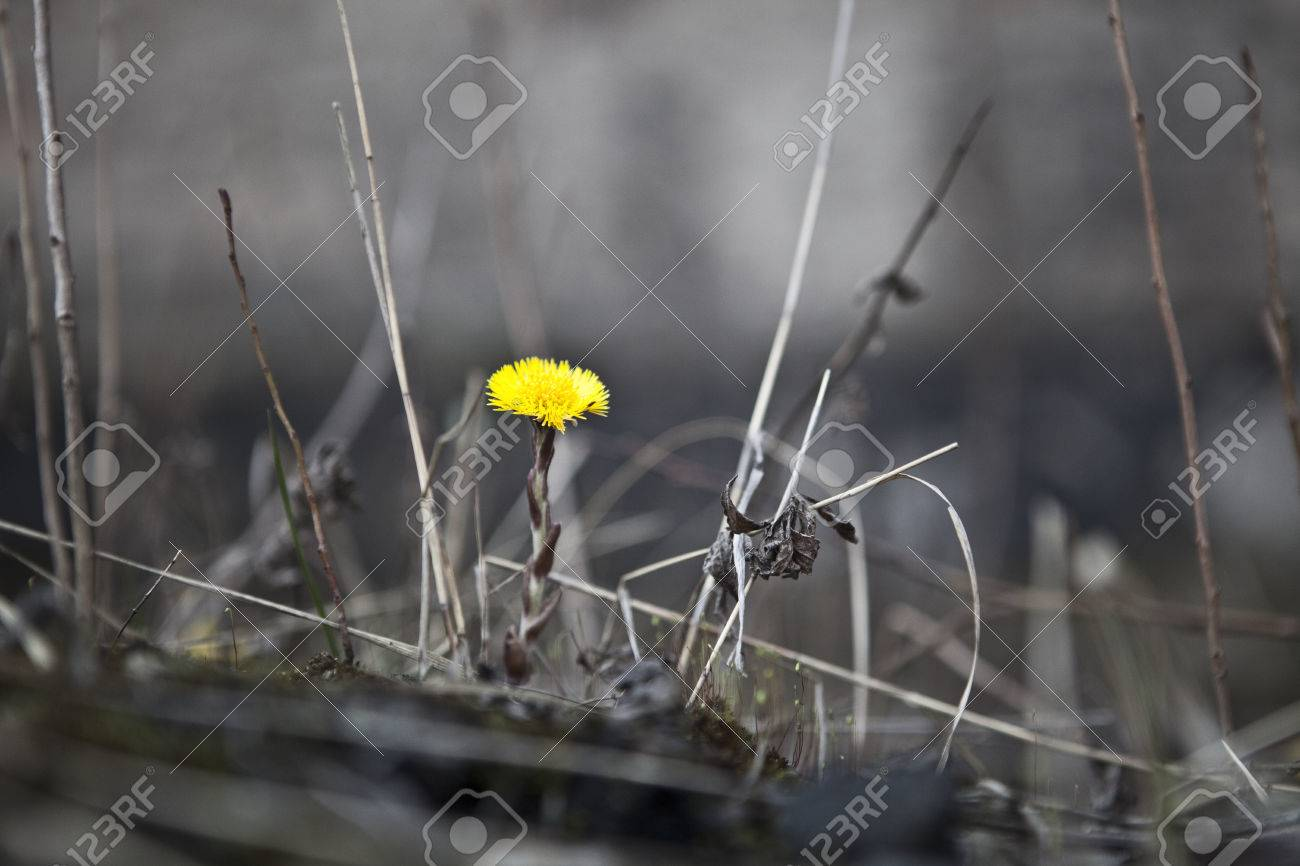dandelion: (477, 352, 616, 425)
